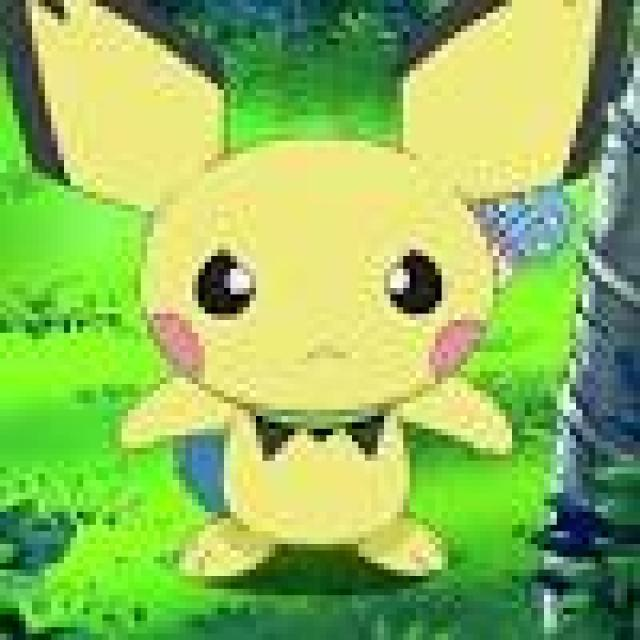pichu: (15, 3, 608, 578)
